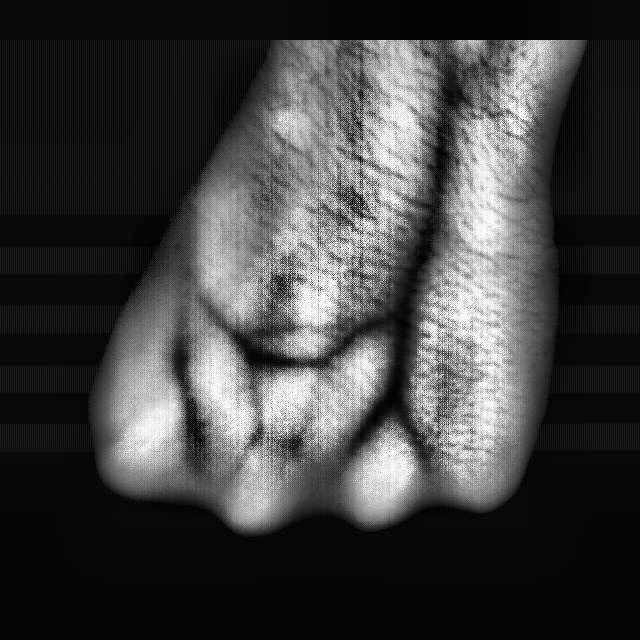Vein: (384, 113, 459, 367)
